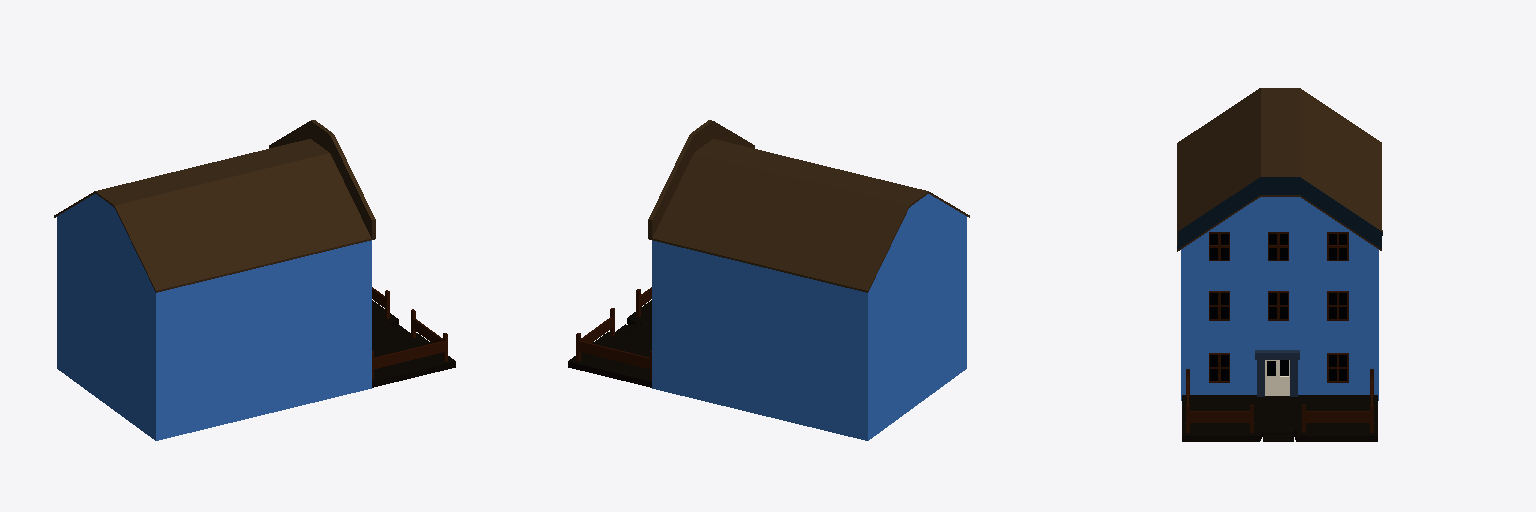
Rendered from house2.obj.
3 views of the same model, side by side, from view 1: azimuth 30°, elevation 25°; view 2: azimuth 150°, elevation 25°; view 3: azimuth 270°, elevation 25° (orthographic).
Parts seen in each view (by area): view 1: Cube_Cube.007, Plane, Cube.003, Cube.017_Cube.018; view 2: Cube_Cube.007, Plane, Cube.003, Cube.018_Cube.019; view 3: Cube_Cube.007, Plane, Cube.003, Cube.005, Cube.020_Cube.021, Cube.019_Cube.020, Cube.007_Cube.008, Cube.009_Cube.010, Cube.022_Cube.023, Cube.006, Cube.008_Cube.009, Cube.010_Cube.011 (+2 smaller).
Part boxes in pixels (bbox=[...]): Cube_Cube.007: bbox=[57, 194, 371, 440]; Plane: bbox=[54, 120, 375, 292]; Cube.003: bbox=[372, 300, 455, 387]; Cube.017_Cube.018: bbox=[374, 341, 444, 368]; Cube_Cube.007: bbox=[652, 194, 966, 440]; Plane: bbox=[648, 120, 969, 292]; Cube.003: bbox=[568, 300, 651, 387]; Cube.018_Cube.019: bbox=[579, 341, 649, 368]; Cube_Cube.007: bbox=[1181, 197, 1378, 400]; Plane: bbox=[1177, 88, 1382, 251]; Cube.003: bbox=[1182, 395, 1377, 441]; Cube.005: bbox=[1265, 360, 1289, 395]; Cube.020_Cube.021: bbox=[1306, 411, 1369, 422]; Cube.019_Cube.020: bbox=[1190, 411, 1249, 422]; Cube.007_Cube.008: bbox=[1327, 353, 1348, 382]; Cube.009_Cube.010: bbox=[1327, 291, 1348, 320]; Cube.022_Cube.023: bbox=[1327, 232, 1348, 260]; Cube.006: bbox=[1209, 353, 1229, 382]; Cube.008_Cube.009: bbox=[1209, 291, 1229, 320]; Cube.010_Cube.011: bbox=[1268, 291, 1288, 320].
Bounding box in the file's own units: 6.55 × 4.65 × 3.84.